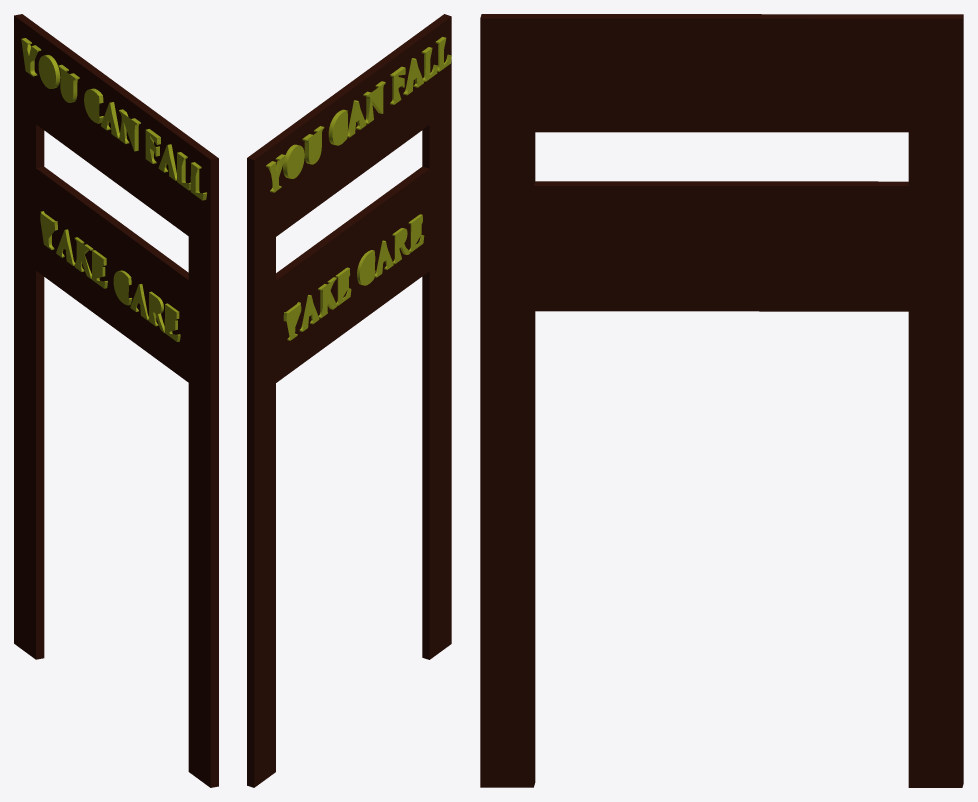
The model's file is VERDADERO RIESGO.fbx.
3 views of the same model, side by side, from view 1: azimuth 30°, elevation 25°; view 2: azimuth 150°, elevation 25°; view 3: azimuth 270°, elevation 25° (orthographic). The views are drawn at different scales.
Parts seen in each view (by area): view 1: VERDADERO RIESGO; view 2: VERDADERO RIESGO; view 3: VERDADERO RIESGO.
Part boxes in pixels (x1,y1,x2,y2): VERDADERO RIESGO: (14, 14, 218, 787); VERDADERO RIESGO: (247, 14, 451, 787); VERDADERO RIESGO: (480, 14, 963, 787).
Bounding box in the file's own units: 79.57 × 3976 × 2266.
